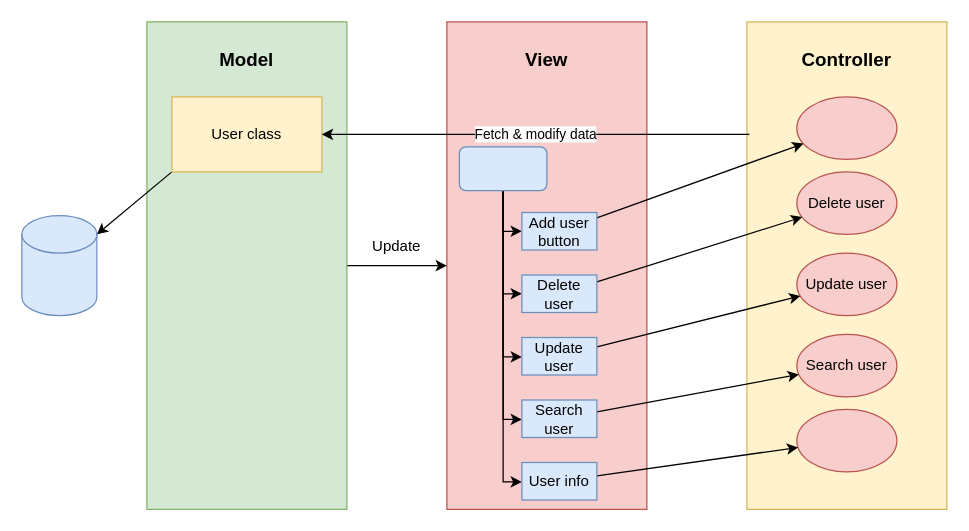
This 969x531 diagram has some shape labels left out. Here are the shapes that lost their labels. From the top down, the box of each, then its label:
(796, 96, 897, 159): Add user
(458, 146, 547, 191): Dashboard
(21, 214, 97, 316): Database
(796, 408, 897, 472): View user info
